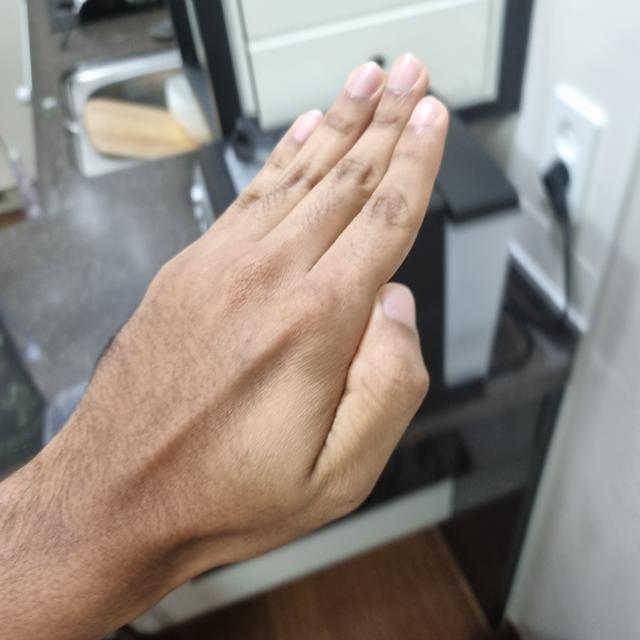Paper: (66, 54, 448, 563)
